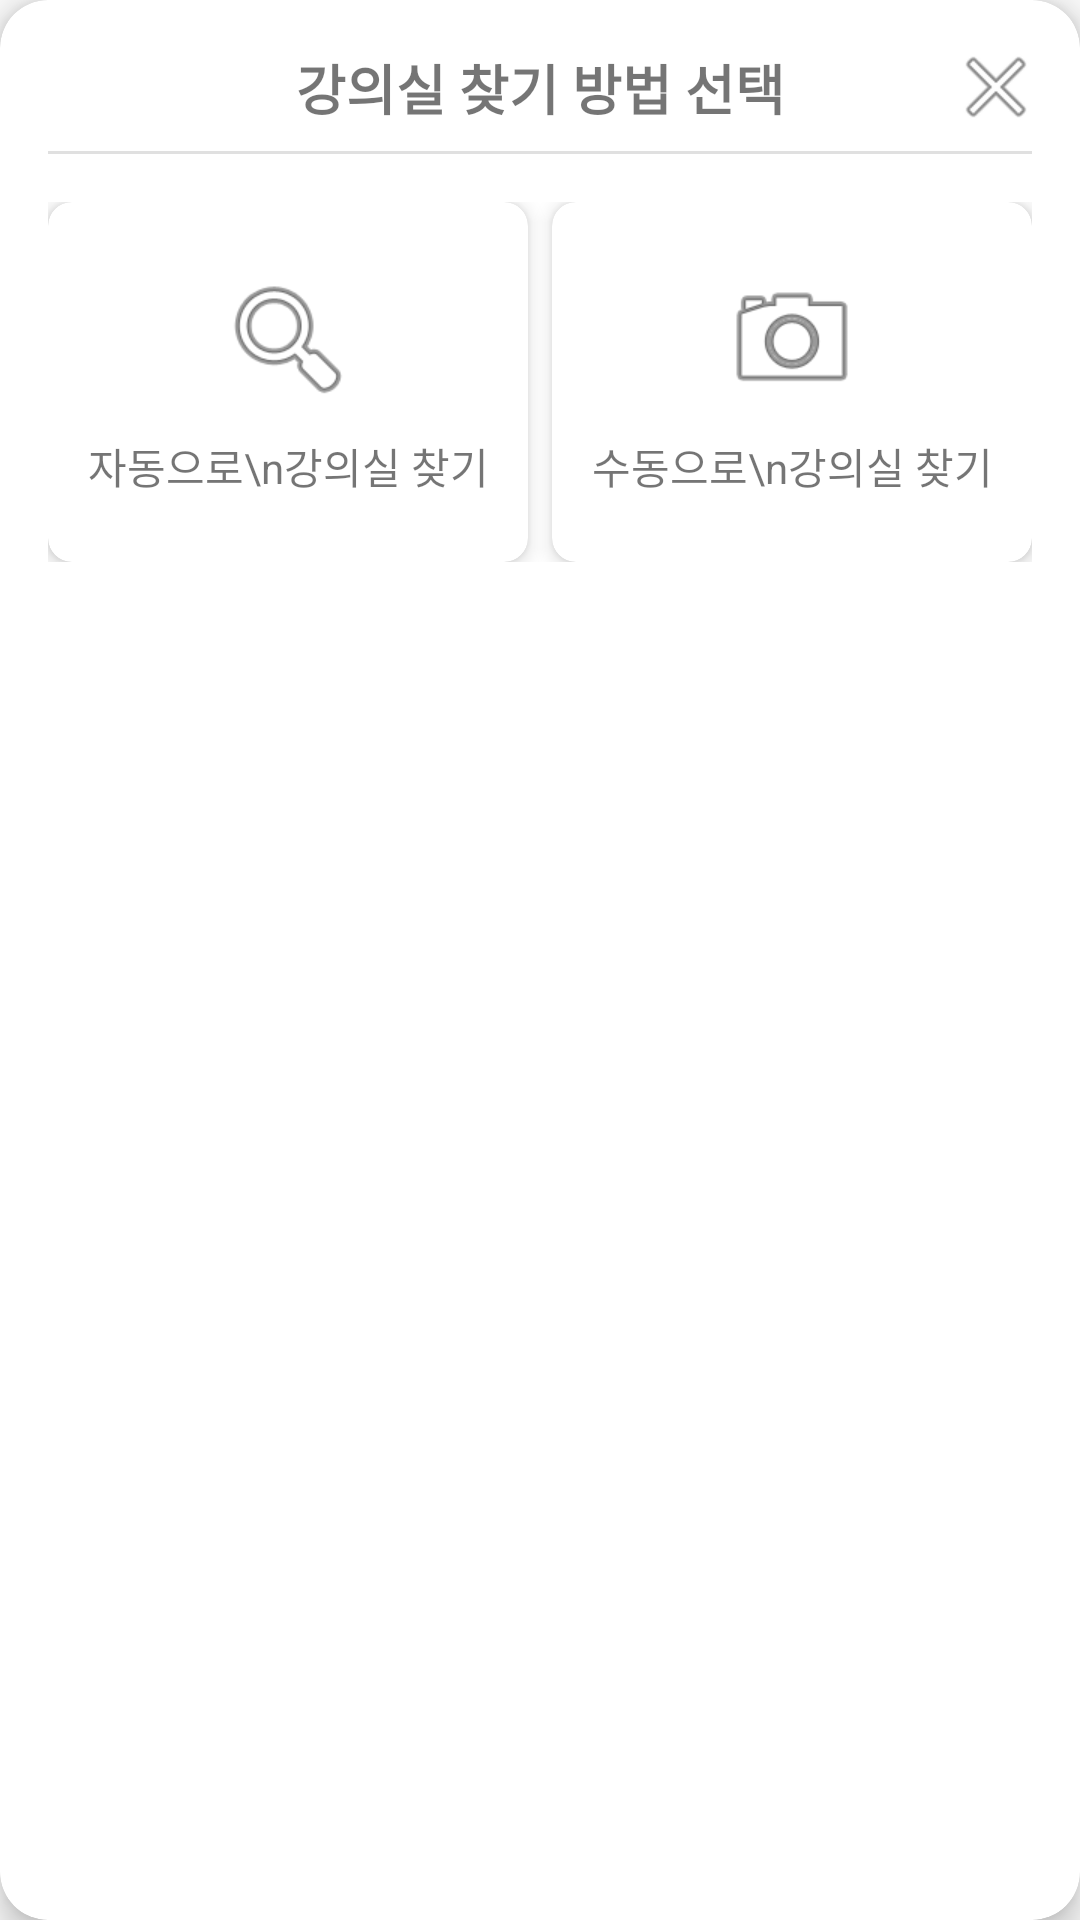

Named icons in this screenshot (1080px x 1920px) and their centers, (x=x, y=y):
camera: (x=792, y=336)
search: (x=288, y=339)
닫기: (x=996, y=87)
